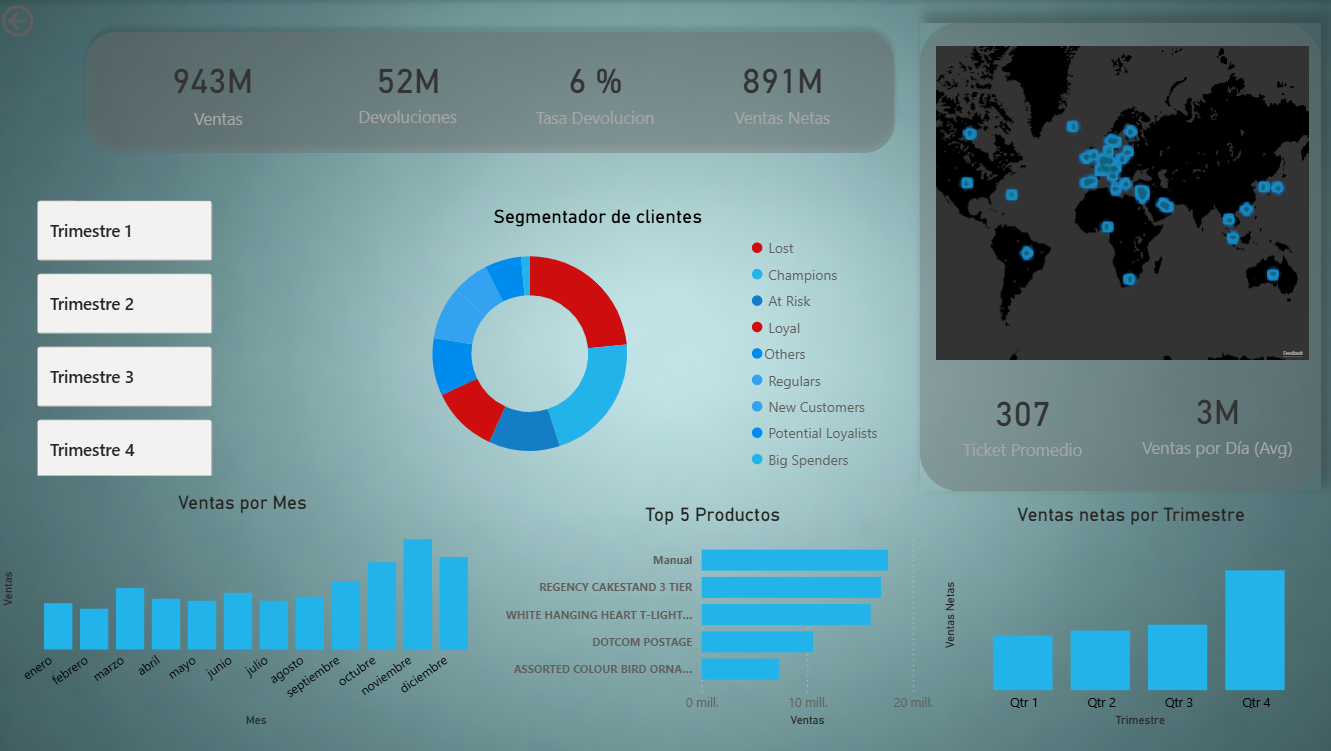

What the dashboard file says about the page in this screenshot:
{"tool":"powerbi","page":{"name":"Página 1","canvas":[1280,720],"ordinal":0},"visuals":[{"type":"shape","box":[885.1,22.1,384.9,449.6],"z":0},{"type":"shape","box":[75.7,22.1,793.6,134.1],"z":1000},{"type":"advanceCardE03760C5AB684758B56AA29F9E6C257B","fields":{"mainMeasure":["df_sales.Ventas Netas"]},"box":[663,38.8,179.8,100.7],"z":2000},{"type":"advanceCardE03760C5AB684758B56AA29F9E6C257B","fields":{"mainMeasure":["df_return.Tasa Devolucion"]},"box":[483.2,38.8,179.8,100.7],"z":3000},{"type":"lineStackedColumnComboChart","fields":{"Category":["df_sales.InvoiceDate.1.Variación.Jerarquía de fechas.Año","df_sales.InvoiceDate.1.Variación.Jerarquía de fechas.Trimestre","df_sales.InvoiceDate.1.Variación.Jerarquía de fechas.Mes","df_sales.InvoiceDate.1.Variación.Jerarquía de fechas.Día"],"Y":["df_sales.Ventas"]},"box":[0,471.7,470.3,228.7],"z":4000},{"type":"barChart","title":"Top 5 Productos","fields":{"Category":["df_sales.Description"],"Y":["df_sales.Ventas"]},"box":[470.3,483.2,431.4,217.2],"z":5000},{"type":"azureMap","fields":{"Category":["df_sales.Country"]},"box":[894.5,39.4,367.6,310.8],"z":6000},{"type":"donutChart","title":"Segmentador de clientes","fields":{"Category":["rfm_segments (3).SegmentRule.1.2"],"Y":["rfm_segments (3).Clientes"]},"box":[293.4,197,565.2,263.2],"z":7000},{"type":"clusteredColumnChart","title":"Ventas netas por Trimestre","fields":{"Category":["df_sales.InvoiceDate.1.Variación.Jerarquía de fechas.Año","df_sales.InvoiceDate.1.Variación.Jerarquía de fechas.Trimestre","df_sales.InvoiceDate.1.Variación.Jerarquía de fechas.Mes","df_sales.InvoiceDate.1.Variación.Jerarquía de fechas.Día"],"Y":["df_sales.Ventas Netas"]},"box":[903.1,483.2,368.2,217.2],"z":8000},{"type":"cardVisual","fields":{"Rows":["df_sales.Trimestre"]},"box":[33.1,166.8,179.8,316.4],"z":9000},{"type":"actionButton","box":[0,0,100,40],"z":10000},{"type":"advanceCardE03760C5AB684758B56AA29F9E6C257B","fields":{"mainMeasure":["df_sales.Ventas por Día (Avg)"]},"box":[1077.1,352.3,185.5,107.9],"z":11000},{"type":"advanceCardE03760C5AB684758B56AA29F9E6C257B","fields":{"mainMeasure":["df_return.Devoluciones"]},"box":[303.4,37.4,179.8,102.1],"z":12000},{"type":"advanceCardE03760C5AB684758B56AA29F9E6C257B","fields":{"mainMeasure":["df_sales.Ticket Promedio"]},"box":[894.5,355.2,176.9,105],"z":13000},{"type":"advanceCardE03760C5AB684758B56AA29F9E6C257B","title":"Ventas","fields":{"mainMeasure":["df_sales.Ventas"]},"box":[120.8,38.8,182.6,100.7],"z":14000}]}

Visuals, with their boxes in screenshot pixels (x1, y1, x2, y2), scaled from the page's 1280x720 canvas onto the 1331x751 screenshot:
shape: (left=920, top=23, right=1321, bottom=492)
shape: (left=79, top=23, right=904, bottom=163)
advanceCardE03760C5AB684758B56AA29F9E6C257B - df_sales.Ventas Netas: (left=689, top=40, right=876, bottom=146)
advanceCardE03760C5AB684758B56AA29F9E6C257B - df_return.Tasa Devolucion: (left=502, top=40, right=689, bottom=146)
lineStackedColumnComboChart - df_sales.InvoiceDate.1.Variación.Jerarquía de fechas.Año x df_sales.InvoiceDate.1.Variación.Jerarquía de fechas.Trimestre: (left=0, top=492, right=489, bottom=731)
"Top 5 Productos" barChart: (left=489, top=504, right=938, bottom=731)
azureMap - df_sales.Country: (left=930, top=41, right=1312, bottom=365)
"Segmentador de clientes" donutChart: (left=305, top=205, right=893, bottom=480)
"Ventas netas por Trimestre" clusteredColumnChart: (left=939, top=504, right=1322, bottom=731)
cardVisual - df_sales.Trimestre: (left=34, top=174, right=221, bottom=504)
actionButton: (left=0, top=0, right=104, bottom=42)
advanceCardE03760C5AB684758B56AA29F9E6C257B - df_sales.Ventas por Día (Avg): (left=1120, top=367, right=1313, bottom=480)
advanceCardE03760C5AB684758B56AA29F9E6C257B - df_return.Devoluciones: (left=315, top=39, right=502, bottom=146)
advanceCardE03760C5AB684758B56AA29F9E6C257B - df_sales.Ticket Promedio: (left=930, top=370, right=1114, bottom=480)
"Ventas" advanceCardE03760C5AB684758B56AA29F9E6C257B: (left=126, top=40, right=315, bottom=146)
